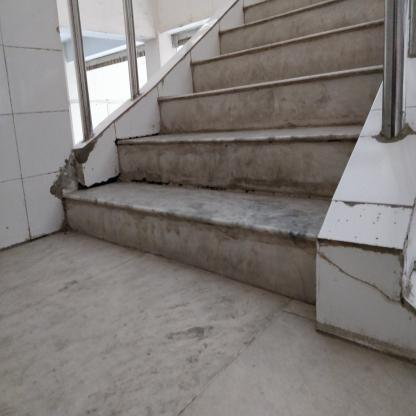stairs: (149, 117, 316, 311)
